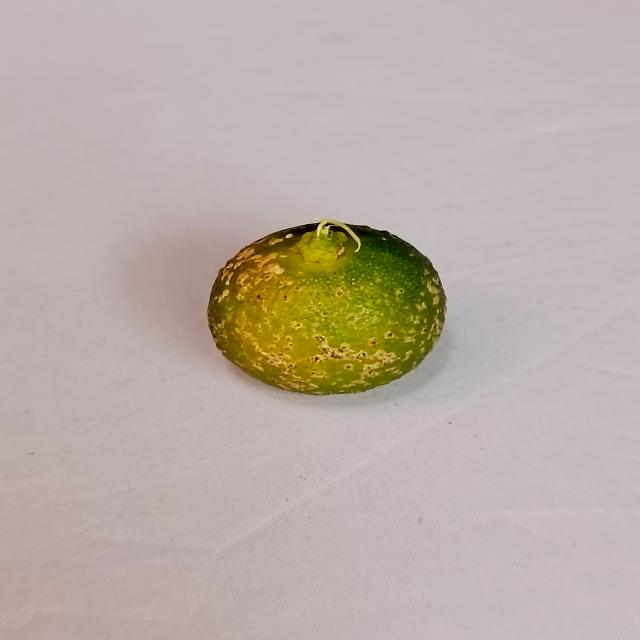scab: (208, 218, 445, 406)
